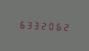six: (17, 18, 23, 29), (52, 20, 58, 31)
three: (24, 18, 30, 30), (31, 19, 37, 30)
two: (38, 19, 44, 31), (59, 20, 65, 32)
zero: (45, 20, 51, 31)
